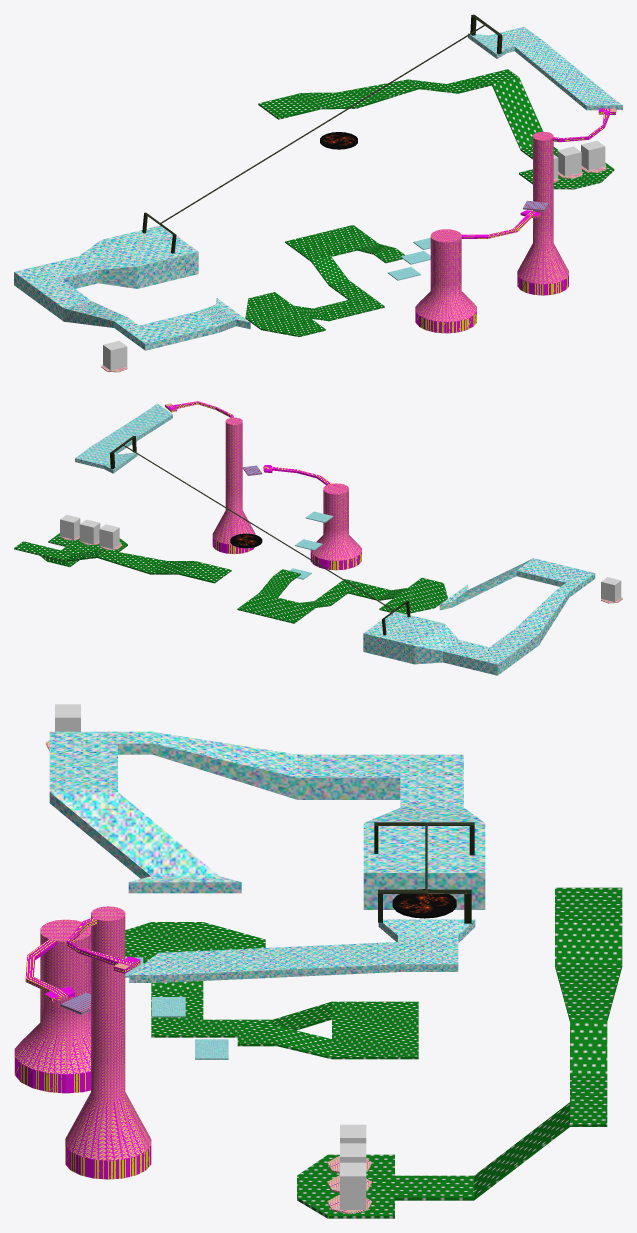
Rendered from Level2.fbx.
3 renders of one model, top to bottom at view 1: azimuth 30°, elevation 25°; view 2: azimuth 150°, elevation 25°; view 3: azimuth 270°, elevation 25°, orthographic. The views are drawn at different scales.
Visible parts, largest first — view 1: Box009, Box001, Box008, Cylinder002, Cylinder001, Box006, Box007, TriggerBox_JumpToLevel4, TriggerBox_JumpToLevel7, TriggerBox_JumpToLevel3, Cylinder003; view 2: Box009, Box001, Box008, Cylinder002, Cylinder001, Box006, Box007, TriggerBox_JumpToLevel3, TriggerBox_JumpToLevel1, TriggerBox_JumpToLevel4, TriggerBox_JumpToLevel7, Cylinder003; view 3: Box009, Box008, Box001, Cylinder002, Box006, Cylinder001, Box007, Cylinder003, TriggerBox_JumpToLevel7, TriggerBox_JumpToLevel4, Box002, Box003.
Boxes of the visible parts, <box> form: Box009: <box>14,225,250,350</box>; Box001: <box>245,225,404,336</box>; Box008: <box>258,69,614,189</box>; Cylinder002: <box>517,108,616,295</box>; Cylinder001: <box>415,210,540,333</box>; Box006: <box>468,27,622,110</box>; Box007: <box>142,14,502,253</box>; TriggerBox_JumpToLevel4: <box>103,340,127,370</box>; TriggerBox_JumpToLevel7: <box>581,140,605,170</box>; TriggerBox_JumpToLevel3: <box>557,146,581,176</box>; Cylinder003: <box>320,132,357,149</box>; Box009: <box>363,558,595,675</box>; Box001: <box>237,569,447,623</box>; Box008: <box>14,533,231,583</box>; Cylinder002: <box>165,401,255,554</box>; Cylinder001: <box>263,465,361,570</box>; Box006: <box>75,403,172,473</box>; Box007: <box>110,435,410,635</box>; TriggerBox_JumpToLevel3: <box>79,519,100,544</box>; TriggerBox_JumpToLevel1: <box>99,524,119,549</box>; TriggerBox_JumpToLevel4: <box>601,577,621,601</box>; TriggerBox_JumpToLevel7: <box>60,514,80,539</box>; Cylinder003: <box>230,533,262,548</box>; Box009: <box>49,731,485,909</box>; Box008: <box>297,887,622,1218</box>; Box001: <box>125,922,418,1059</box>; Cylinder002: <box>65,906,151,1179</box>; Box006: <box>129,919,475,982</box>; Cylinder001: <box>14,919,90,1093</box>; Box007: <box>374,822,474,923</box>; Cylinder003: <box>392,889,456,918</box>; TriggerBox_JumpToLevel7: <box>340,1162,366,1210</box>; TriggerBox_JumpToLevel4: <box>55,704,80,731</box>; Box002: <box>195,1039,228,1059</box>; Box003: <box>152,997,185,1017</box>.
Bounding box in the file's own units: 346 × 102 × 186.
7 materials, 7 textured.
